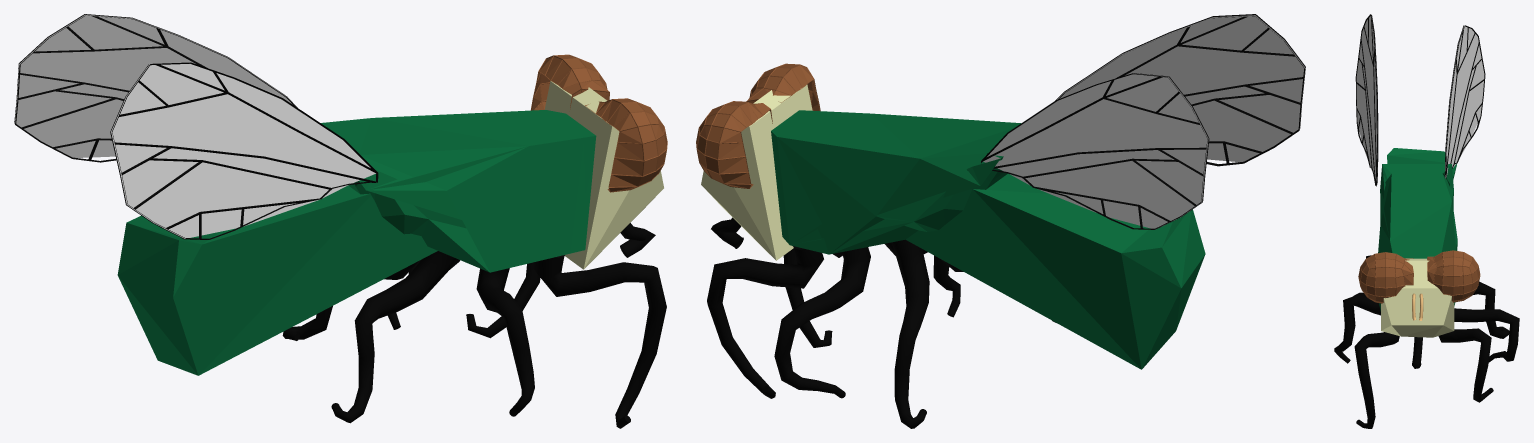
Rendered from ChrysomyamegacephalaFemaleLowPoly.fbx.
The picture shows the model from 3 angles, left to right: view 1: azimuth 30°, elevation 25°; view 2: azimuth 150°, elevation 25°; view 3: azimuth 270°, elevation 25°; orthographic projection. The views are drawn at different scales.
Visible parts, largest first — view 1: Abdomen, Thorax, Right Wing, Left Wing, Head, Leg4, Plane.001, Leg6, RightEye, Leg5, Plane.004, LeftEYe (+5 smaller); view 2: Abdomen, Thorax, Left Wing, Right Wing, Head, Leg1, Leg2, Leg3, LeftEYe, Plane.004, Plane.001, RightEye (+5 smaller); view 3: Thorax, Head, Left Wing, Right Wing, RightEye, LeftEYe, Plane.004, Plane.001, Leg4, Leg2, Leg1, Leg5 (+5 smaller).
Part boxes in pixels (x1,y1,x2,y2): Abdomen: (117,185,437,375); Thorax: (321,110,596,272); Right Wing: (111,64,375,238); Left Wing: (14,14,297,157); Head: (544,81,663,269); Leg4: (532,255,666,428); Plane.001: (110,62,378,239); Leg6: (331,251,455,423); RightEye: (596,99,666,191); Leg5: (476,268,534,416); Plane.004: (14,14,297,162); LeftEYe: (531,55,608,110); Abdomen: (906,173,1205,369); Thorax: (771,110,1020,254); Left Wing: (983,73,1208,228); Right Wing: (1057,15,1305,162); Head: (701,84,812,260); Leg1: (707,246,823,398); Leg2: (774,247,870,398); Leg3: (891,239,929,428); LeftEYe: (696,101,772,188); Plane.004: (981,73,1209,229); Plane.001: (1055,14,1305,166); RightEye: (748,64,820,110); Thorax: (1378,164,1457,311); Head: (1381,258,1454,337); Left Wing: (1445,25,1484,178); Right Wing: (1356,14,1377,180); RightEye: (1359,252,1413,303); LeftEYe: (1427,251,1479,301); Plane.004: (1444,25,1485,178); Plane.001: (1355,14,1378,186); Leg4: (1354,332,1399,428); Leg2: (1454,308,1519,362); Leg1: (1438,328,1493,402); Leg5: (1334,294,1380,363).
Bounding box in the file's own units: 503 × 385 × 231.
